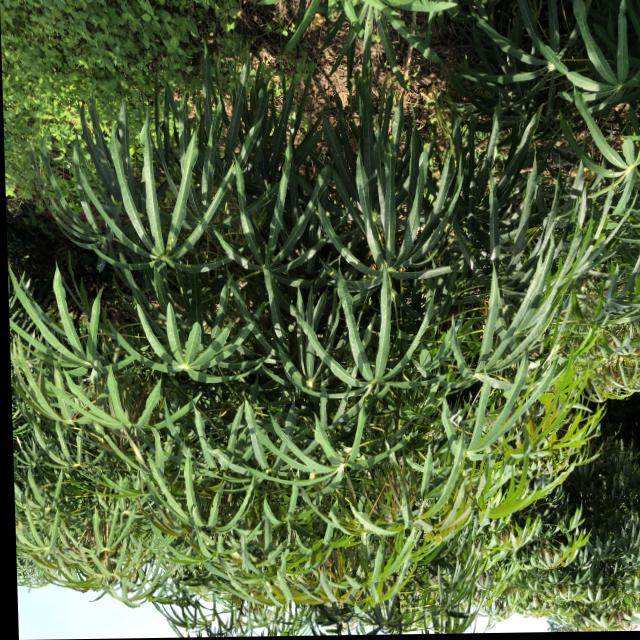Maleza: (0, 0, 214, 76)
Mosca: (224, 180, 234, 194), (311, 348, 321, 361)
